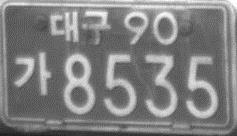0: (152, 9, 179, 46)
3: (142, 53, 179, 118)
5: (103, 51, 137, 119), (184, 56, 219, 120)
8: (63, 53, 96, 115)
9: (123, 10, 148, 44)
가: (12, 51, 52, 97)
대구_O: (48, 9, 111, 46)
